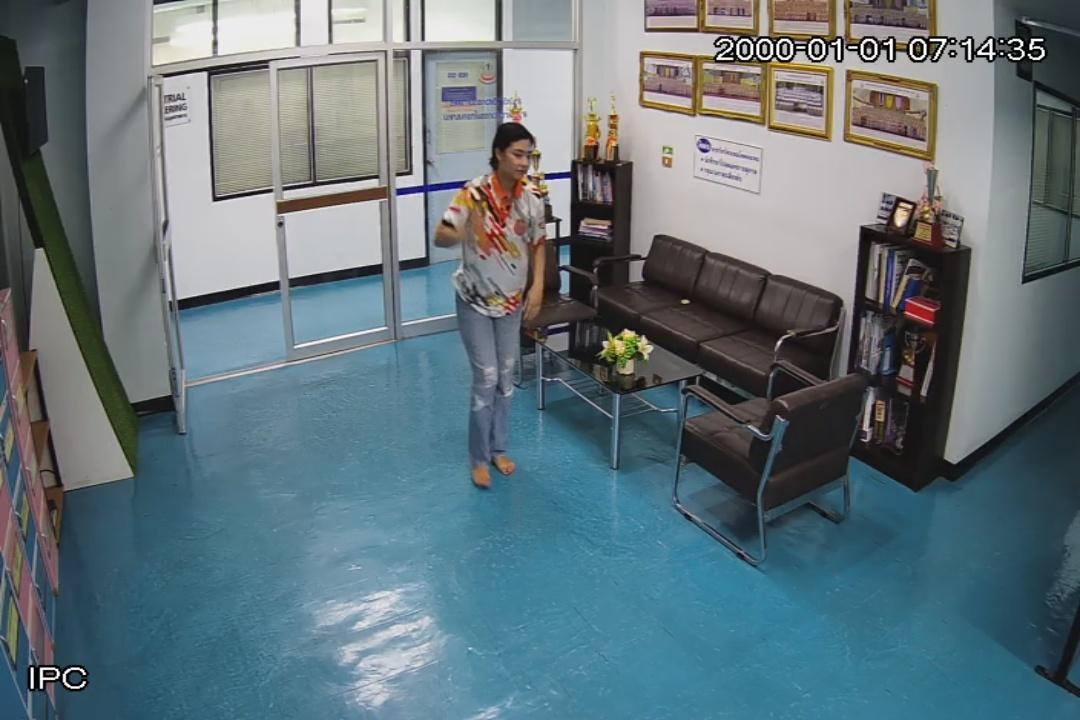normal: (431, 123, 552, 491)
